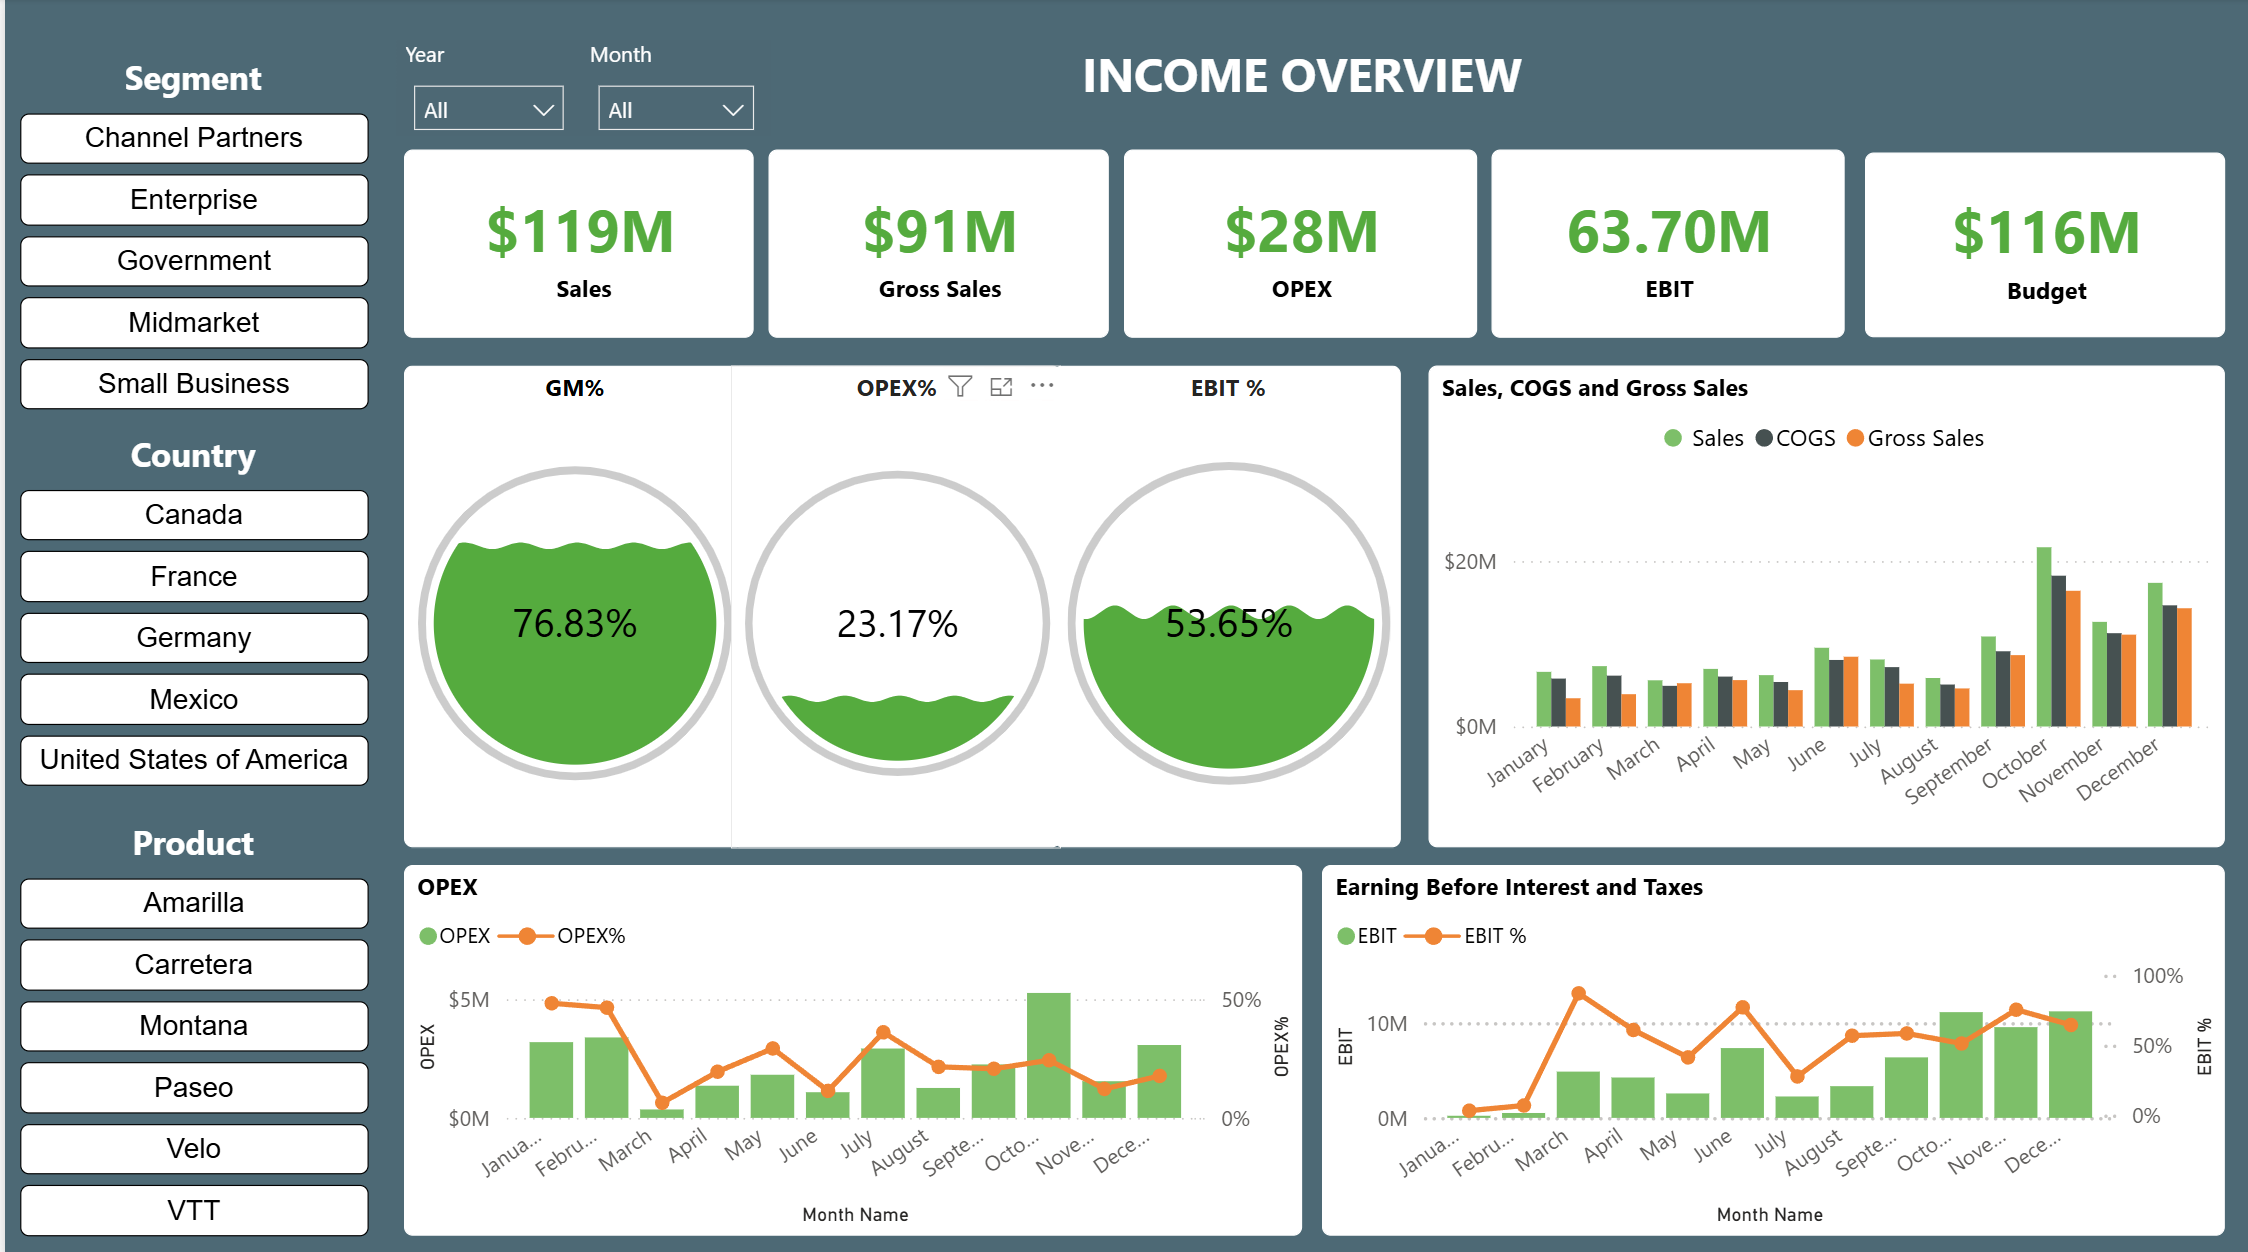

Layout of this report page (visuals, bound fields, positions):
{"tool":"powerbi","page":{"name":"Income Overview","canvas":[1280,720],"ordinal":0},"visuals":[{"type":"ChicletSlicer1448559807354","title":"Segment","fields":{"Category":["financials.Segment"]},"box":[0,32.7,214.4,214.4],"z":0},{"type":"ChicletSlicer1448559807354","title":"Country","fields":{"Category":["financials.Country"]},"box":[0,247.1,214.4,221.5],"z":1000},{"type":"ChicletSlicer1448559807354","title":"Product","fields":{"Category":["financials.Product"]},"box":[0,468.6,214.4,251.4],"z":2000},{"type":"card","fields":{"Values":["Sum(financials. Sales)"]},"box":[227.1,86.8,199.6,107],"z":3000},{"type":"card","fields":{"Values":["Sum(financials.Gross Sales)"]},"box":[435.3,86.8,193.8,107],"z":4000},{"type":"card","fields":{"Values":["financials.EDIT"]},"box":[847.5,86.8,201,107],"z":5000},{"type":"card","fields":{"Values":["financials.OPEX"]},"box":[637.8,86.8,201,107],"z":6000},{"type":"card","fields":{"Values":["Sum(financials.Budget)"]},"box":[1060.2,88.2,205.4,105.6],"z":7000},{"type":"clusteredColumnChart","title":"Sales, COGS and Gross Sales","fields":{"Y":["Sum(financials. Sales)","Sum(financials.COGS)","Sum(financials.Gross Sales)"],"Category":["financials.Month Name"]},"box":[811.4,209.7,454.1,274.8],"z":8000},{"type":"lineStackedColumnComboChart","title":"Earning Before Interest  and Taxes","fields":{"Category":["financials.Month Name"],"Y":["financials.EBIT"],"Y2":["financials.EBIT %"]},"box":[750.6,494.6,514.9,211.2],"z":9000},{"type":"lineStackedColumnComboChart","title":"OPEX","fields":{"Category":["financials.Month Name"],"Y":["financials.OPEX"],"Y2":["financials.OPEX%"]},"box":[227.1,494.6,512,211.2],"z":10000},{"type":"PBI_CV_94E55AB3_5D45_4B62_A49D_19E2109AA031","fields":{"value":["financials.GM%"]},"box":[227.1,209.7,193.8,274.8],"z":11000},{"type":"PBI_CV_94E55AB3_5D45_4B62_A49D_19E2109AA031","fields":{"value":["financials.OPEX%"]},"box":[413.6,209.7,188,274.8],"z":12000},{"type":"PBI_CV_94E55AB3_5D45_4B62_A49D_19E2109AA031","fields":{"value":["financials.EBIT %"]},"box":[597.3,209.7,198.1,274.8],"z":13000},{"type":"textbox","box":[550.7,19.4,377.5,50.4],"z":14000},{"type":"slicer","title":"Year","fields":{"Values":["financials.Year"]},"box":[222.8,24.3,105.6,55],"z":16000},{"type":"slicer","title":"Month","fields":{"Values":["financials.Month Name"]},"box":[328.3,24.3,108.5,55],"z":17000}]}

Visuals, with their boxes in screenshot pixels (x1, y1, x2, y2), scaled from the page's 1280x720 canvas onto the 2248x1252 screenshot:
"Segment" ChicletSlicer1448559807354: bbox=(0, 57, 377, 430)
"Country" ChicletSlicer1448559807354: bbox=(0, 430, 377, 815)
"Product" ChicletSlicer1448559807354: bbox=(0, 815, 377, 1251)
card - Sum(financials. Sales): bbox=(399, 151, 749, 337)
card - Sum(financials.Gross Sales): bbox=(764, 151, 1105, 337)
card - financials.EDIT: bbox=(1488, 151, 1841, 337)
card - financials.OPEX: bbox=(1120, 151, 1473, 337)
card - Sum(financials.Budget): bbox=(1862, 153, 2223, 337)
"Sales, COGS and Gross Sales" clusteredColumnChart: bbox=(1425, 365, 2223, 842)
"Earning Before Interest  and Taxes" lineStackedColumnComboChart: bbox=(1318, 860, 2223, 1227)
"OPEX" lineStackedColumnComboChart: bbox=(399, 860, 1298, 1227)
PBI_CV_94E55AB3_5D45_4B62_A49D_19E2109AA031 - financials.GM%: bbox=(399, 365, 739, 842)
PBI_CV_94E55AB3_5D45_4B62_A49D_19E2109AA031 - financials.OPEX%: bbox=(726, 365, 1057, 842)
PBI_CV_94E55AB3_5D45_4B62_A49D_19E2109AA031 - financials.EBIT %: bbox=(1049, 365, 1397, 842)
textbox: bbox=(967, 34, 1630, 121)
"Year" slicer: bbox=(391, 42, 577, 138)
"Month" slicer: bbox=(577, 42, 767, 138)
